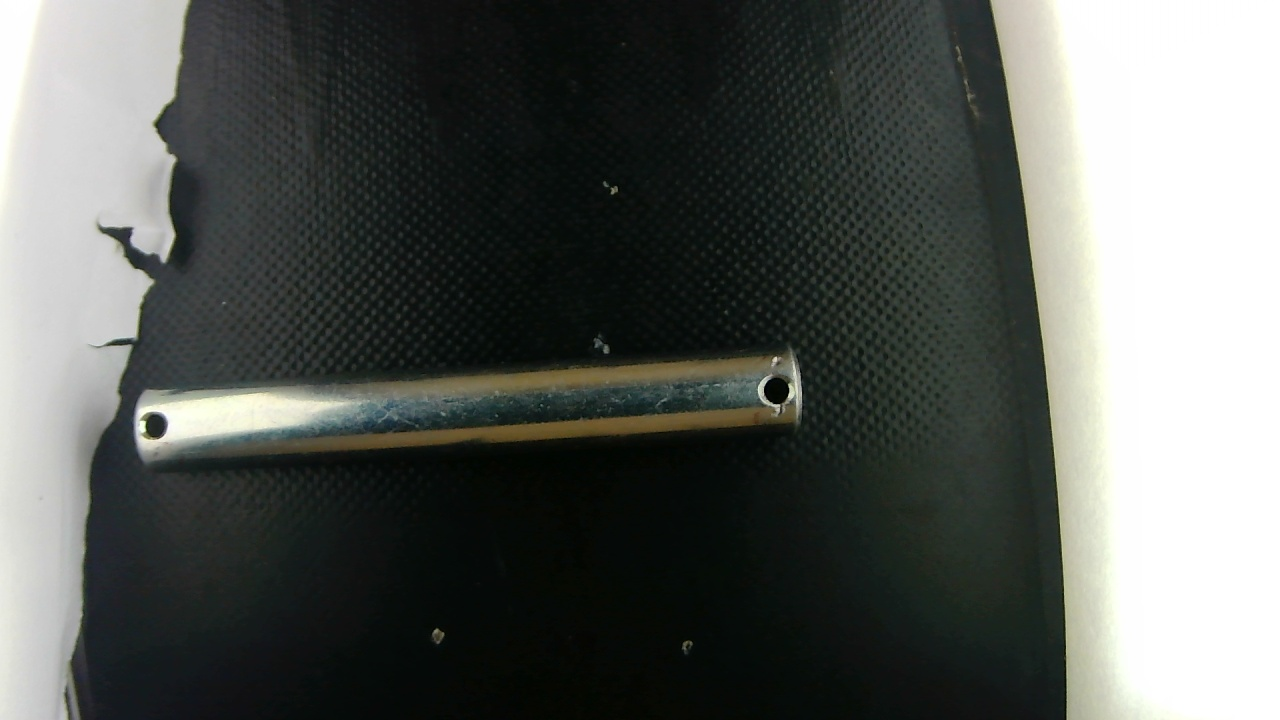drill touch_pin: (768, 356, 788, 376)
